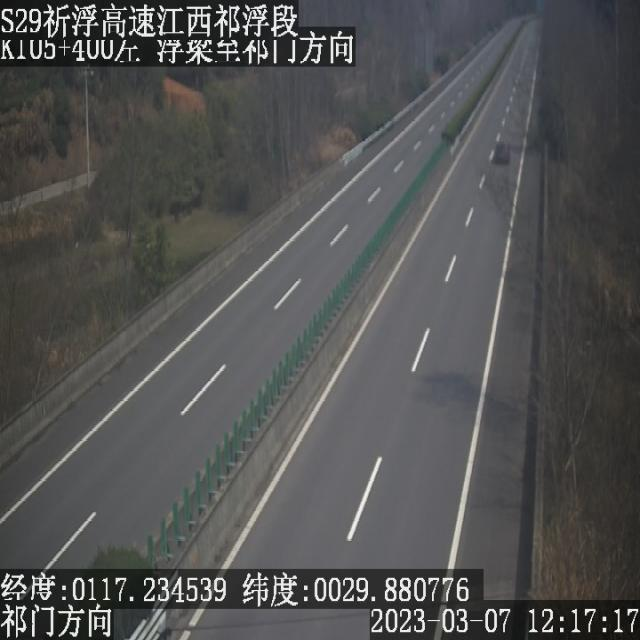point: (489, 5, 543, 67)
